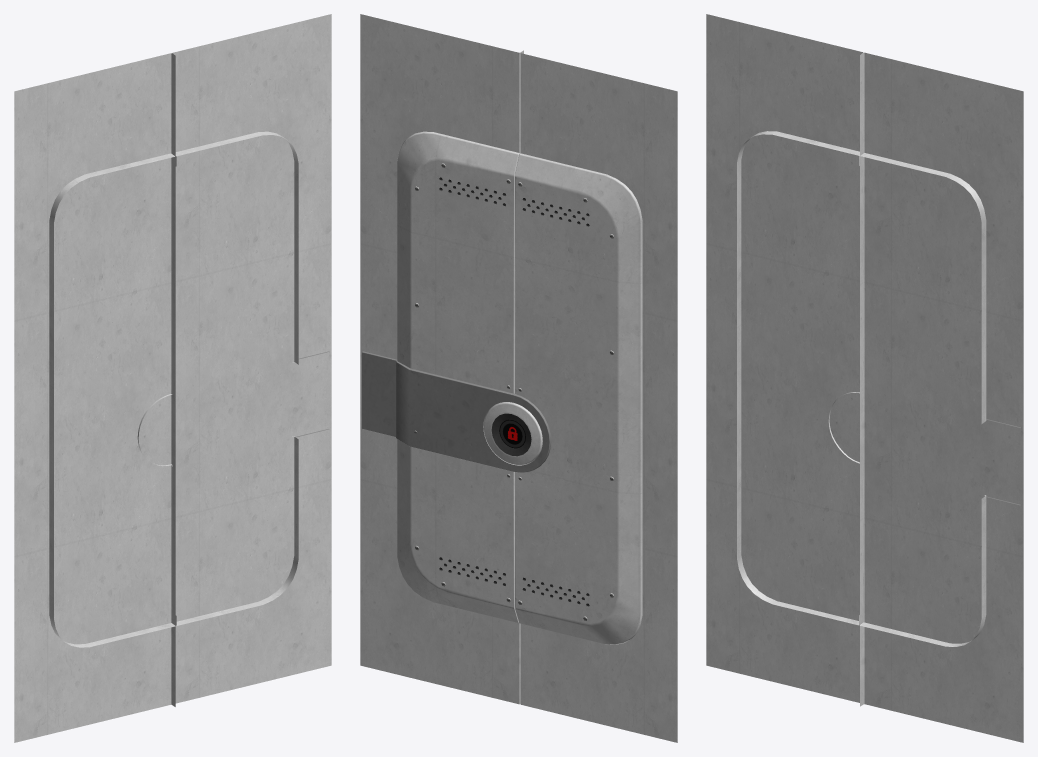
File: home_tp_door_mesh.fbx
The picture shows the model from 3 angles, left to right: view 1: azimuth 30°, elevation 25°; view 2: azimuth 150°, elevation 25°; view 3: azimuth 330°, elevation 25°; orthographic projection.
Parts seen in each view (by area): view 1: home1_tp_door_r, home1_tp_door_l; view 2: home1_tp_door_l, home1_tp_door_r; view 3: home1_tp_door_l, home1_tp_door_r.
Boxes of the visible parts, box(x1,y1,x2,y2) form: home1_tp_door_r: box(14, 53, 175, 742); home1_tp_door_l: box(172, 14, 331, 703); home1_tp_door_l: box(360, 14, 551, 704); home1_tp_door_r: box(515, 50, 677, 742); home1_tp_door_l: box(859, 52, 1023, 742); home1_tp_door_r: box(706, 14, 863, 702).
Bounding box in the file's own units: 233 × 458 × 16.65.
